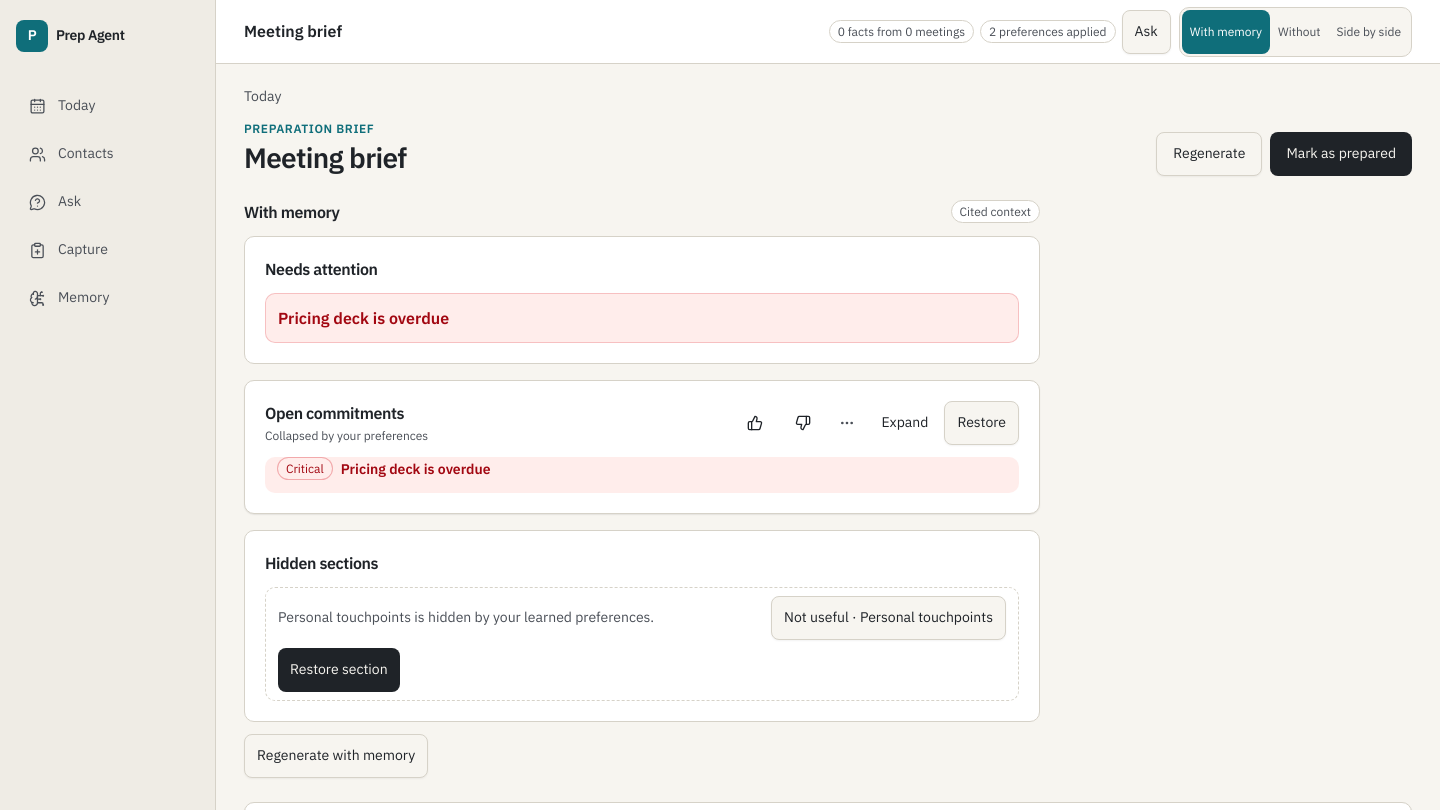
Test case: Brief page › restores a hidden section on the cached brief and keeps collapsed critical items visible
Expected: the text "Collapsed by your preferences" is shown, [265,427,428,444]
Expected: the text "Pricing deck is overdue" is shown 2 times, [278,308,449,328]; [341,460,491,478]
Click the button "Restore section": coordinates (339, 670) [278,648,400,692]
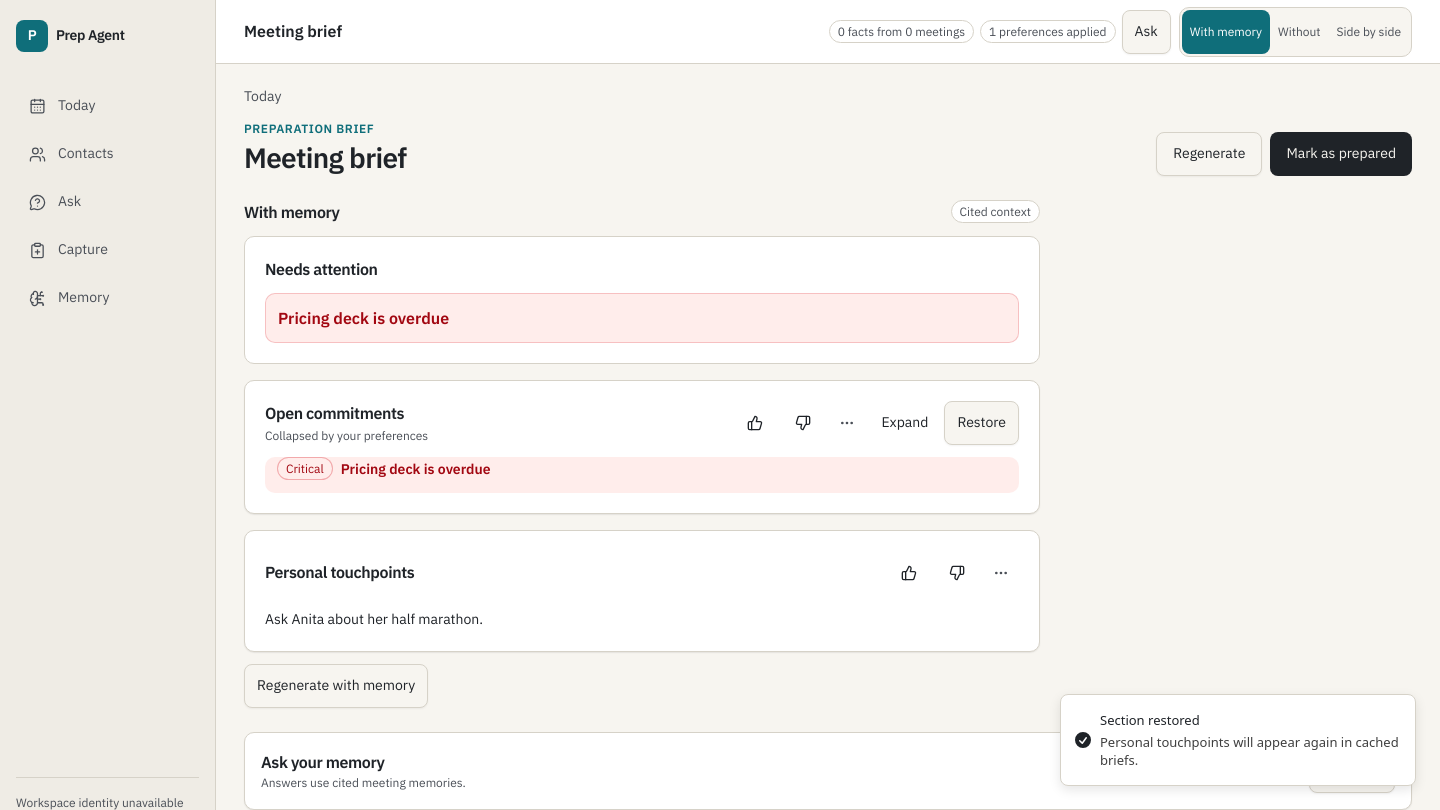
Result: the text "Ask Anita about her half marathon." is shown at [265,610,483,628]
